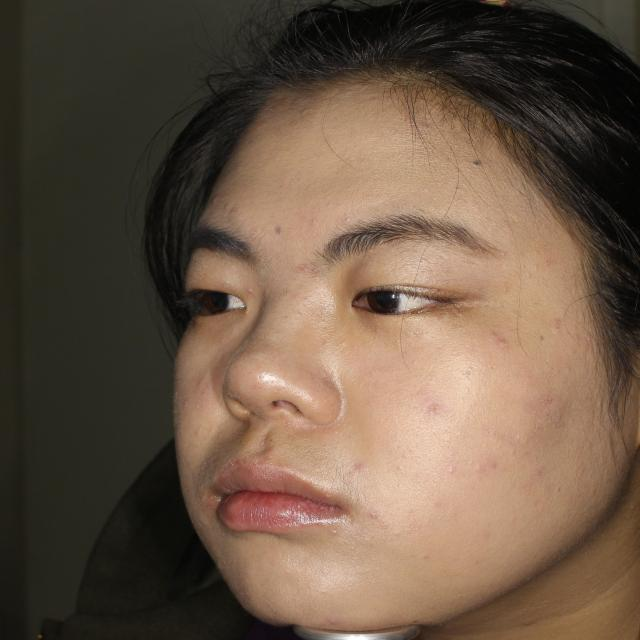pustule: (528, 459, 560, 486), (427, 397, 456, 422), (541, 387, 558, 415), (492, 326, 508, 353)
